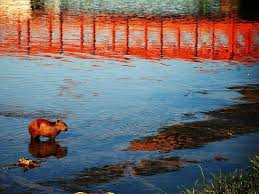capivara: (27, 117, 71, 147)
